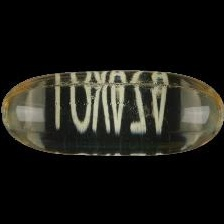17856-0783: (0, 0, 224, 224)
